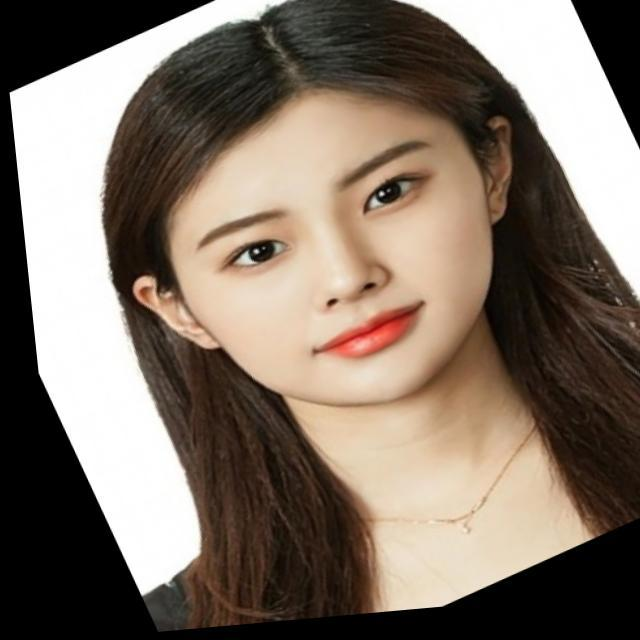Nonhelmet: (83, 0, 537, 429)
